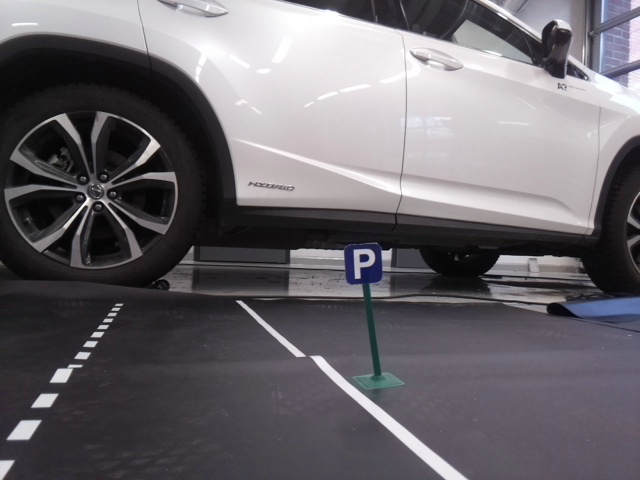Parking: (343, 245, 383, 283)
